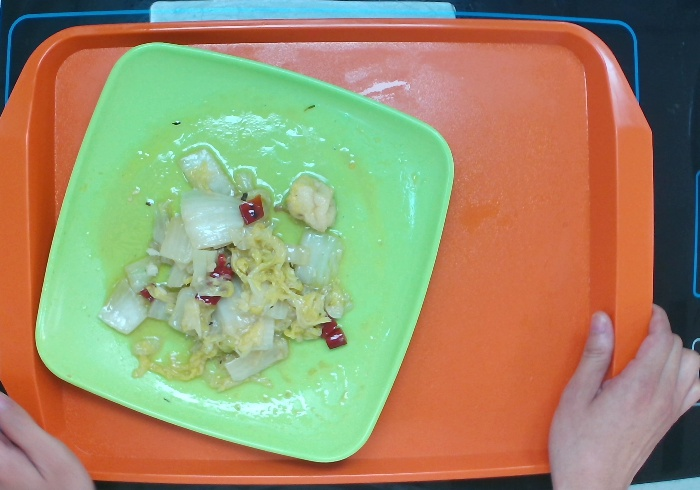ZNLD-Lv_Fang_Pan: (33, 42, 456, 465)
